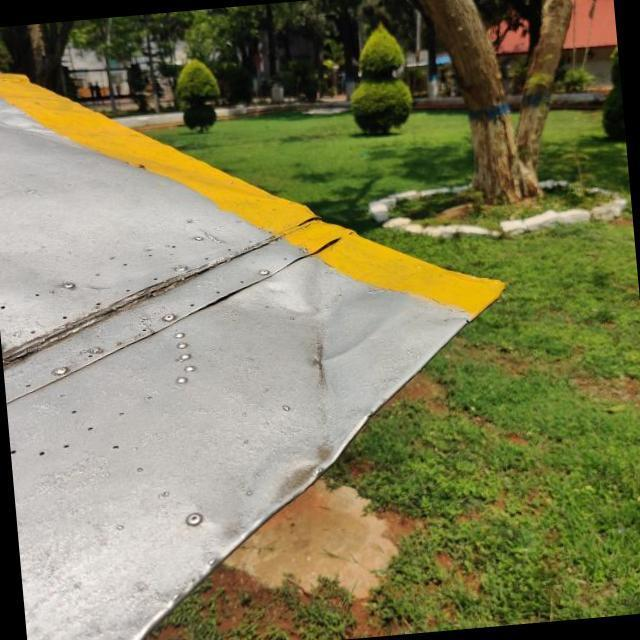dent: (250, 265, 382, 363), (260, 422, 352, 520)
